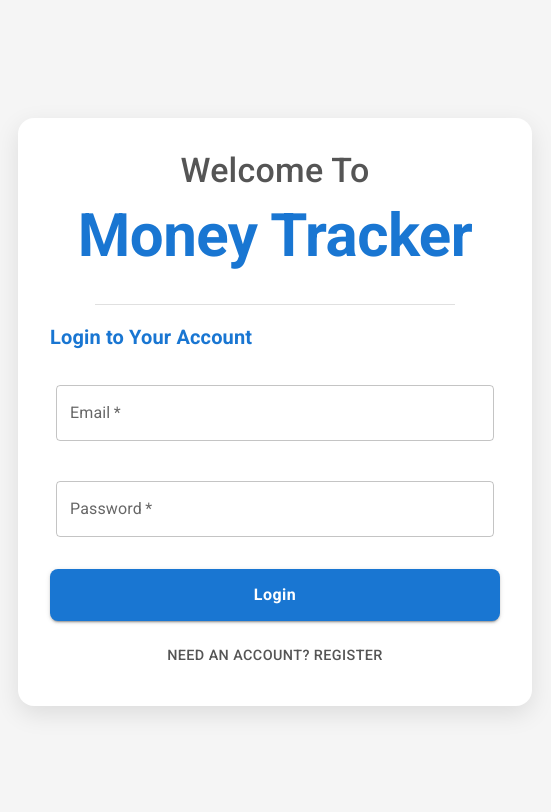
Login Page › toggles between login and register
The width and height of the screenshot is (551, 812).
Click the button "Need an account? Register" at point(275, 656), box [159,637,391,674]
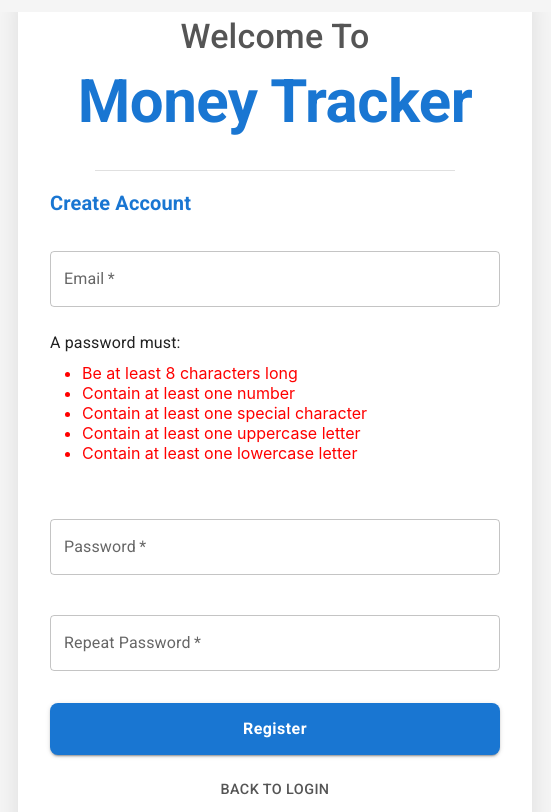
expect the heading "Create Account" is shown: met, box [50,187,191,219]
Click the button "Back to Login" at point(275, 790), box [212,771,338,808]
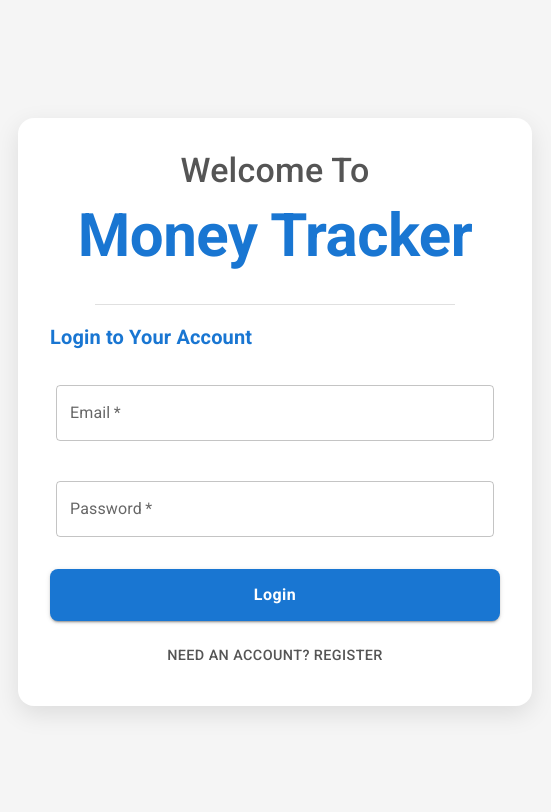
expect the heading "Login to Your Account" is shown: met, box [50,321,252,353]
